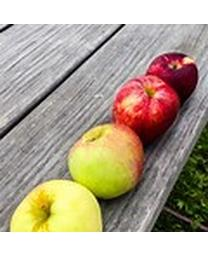apple: (69, 125, 145, 200), (10, 180, 103, 232), (112, 76, 180, 144), (146, 51, 198, 104)
